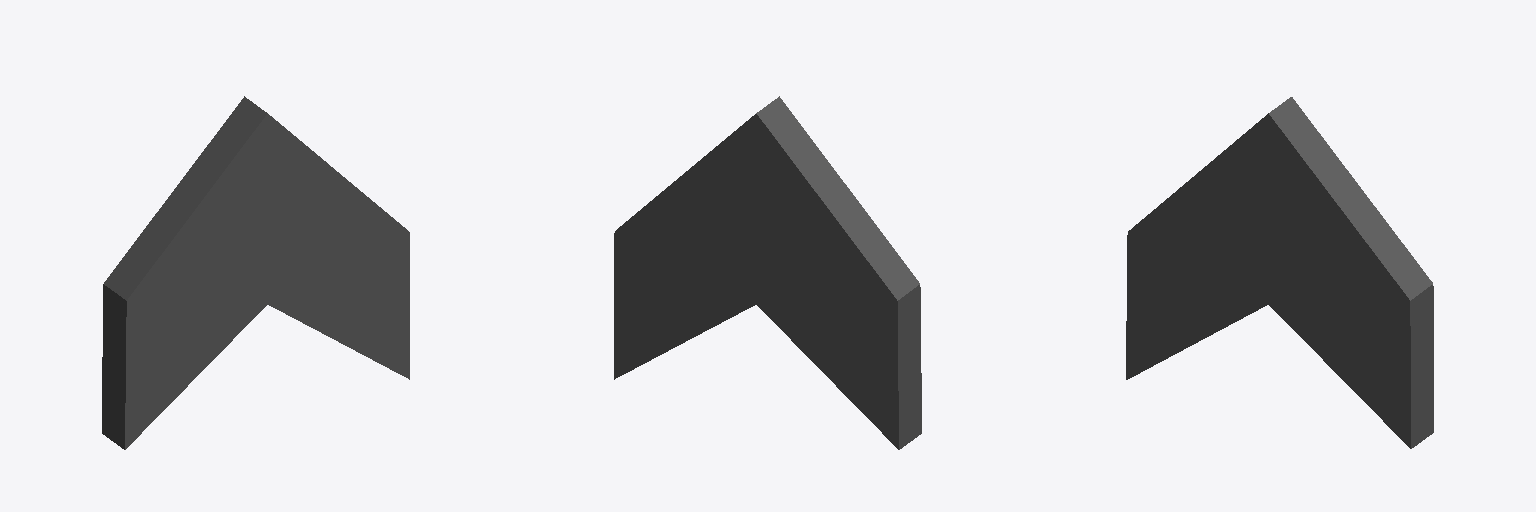
Rendered from NudgeElevation.obj.
3 renders of one model, left to right at view 1: azimuth 30°, elevation 25°; view 2: azimuth 150°, elevation 25°; view 3: azimuth 330°, elevation 25°, orthographic.
Parts seen in each view (by area): view 1: NudgeElevation_Arrow; view 2: NudgeElevation_Arrow; view 3: NudgeElevation_Arrow.
Part boxes in pixels (x1,y1,x2,y2): NudgeElevation_Arrow: (102,96,409,449); NudgeElevation_Arrow: (614,96,921,449); NudgeElevation_Arrow: (1126,97,1433,448).
Bounding box in the file's own units: 0.0983 × 0.0996 × 0.0138.